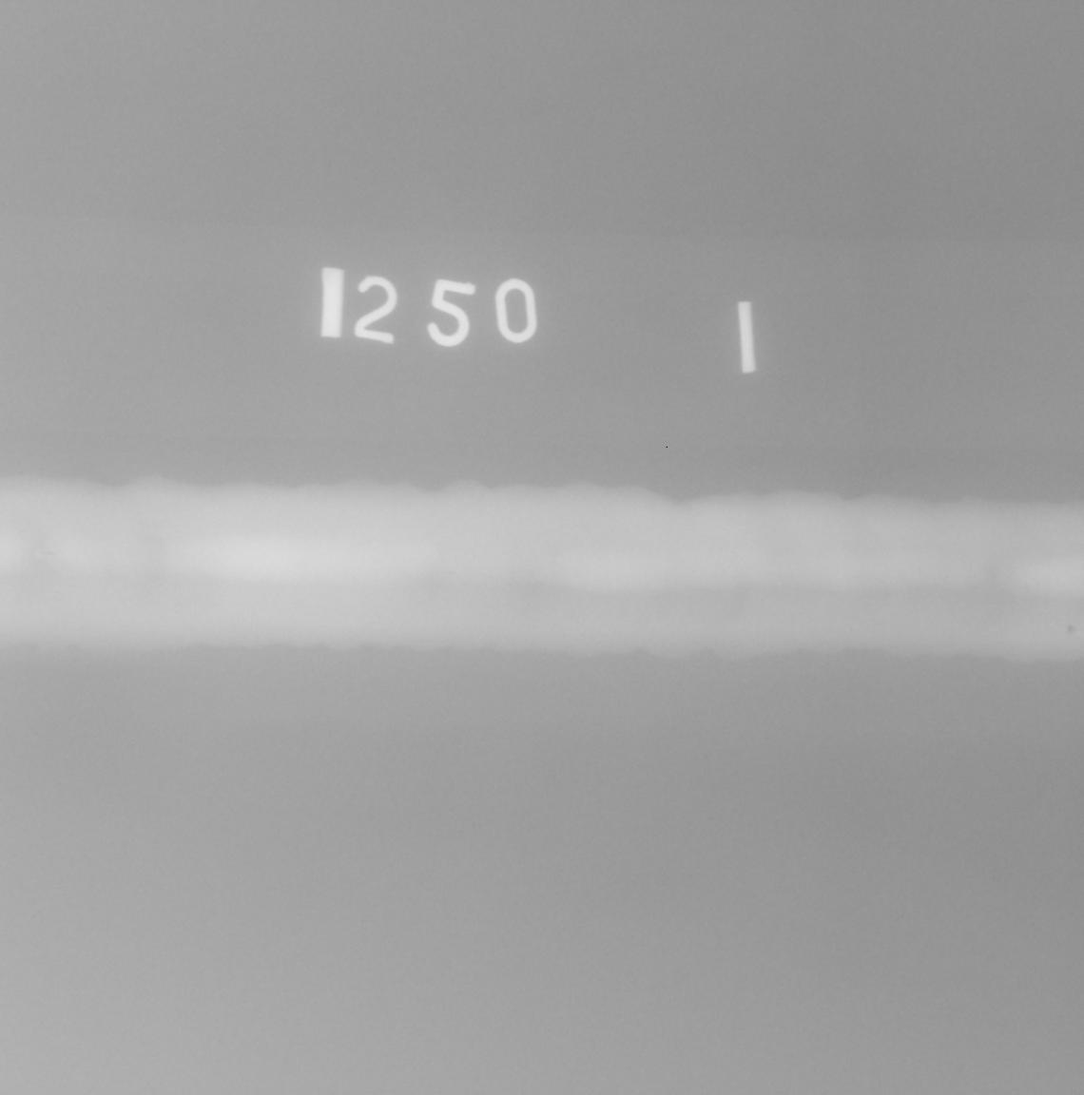Incomplete Root Penetration: (41, 553, 53, 555)
Pore/Porosity: (1067, 626, 1073, 633)
